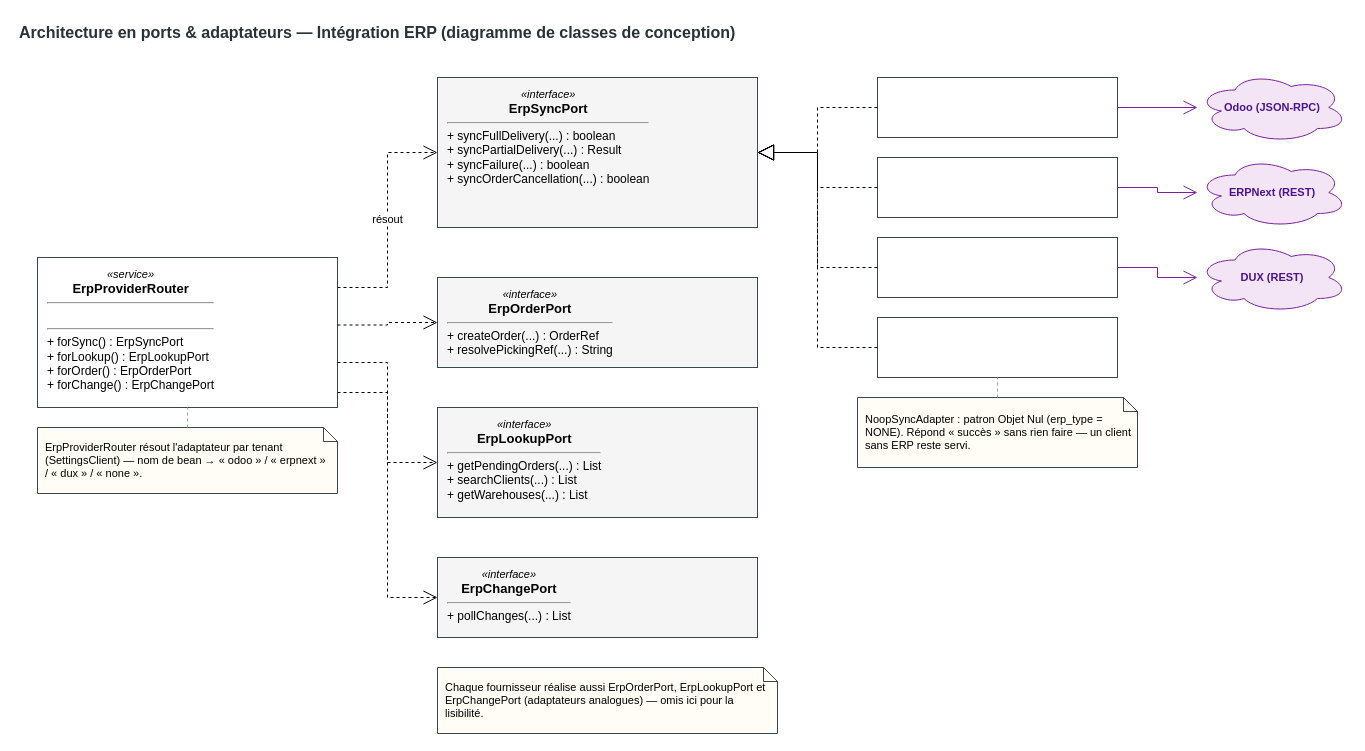
This 1365x751 diagram has some shape labels left out. Each missing label, with the centre of its shape:
"DuxSyncAdapter" goes at point (997, 267).
"ErpNextSyncAdapter" goes at point (997, 187).
"NoopSyncAdapter" goes at point (997, 347).
"OdooSyncAdapter" goes at point (997, 107).
